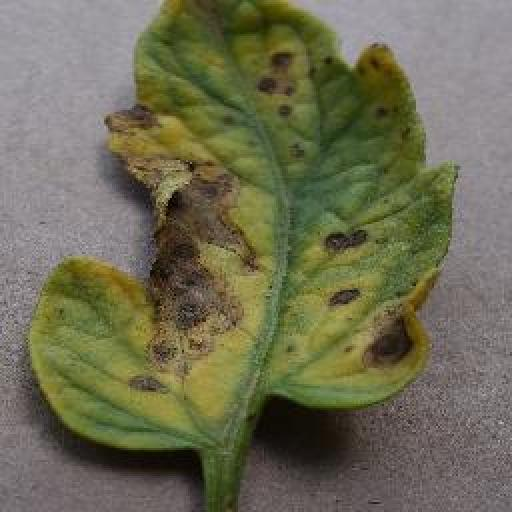Early Blight: (27, 1, 464, 455)
